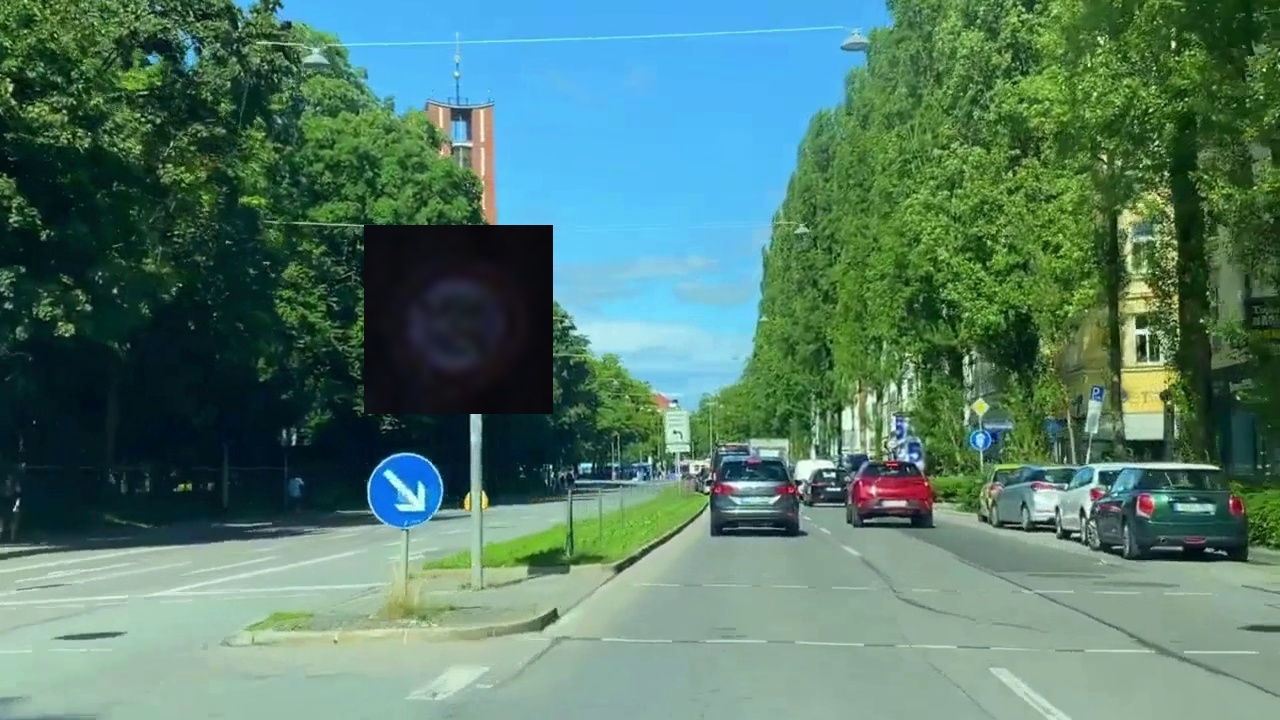Speed 120: (364, 225, 553, 414)
